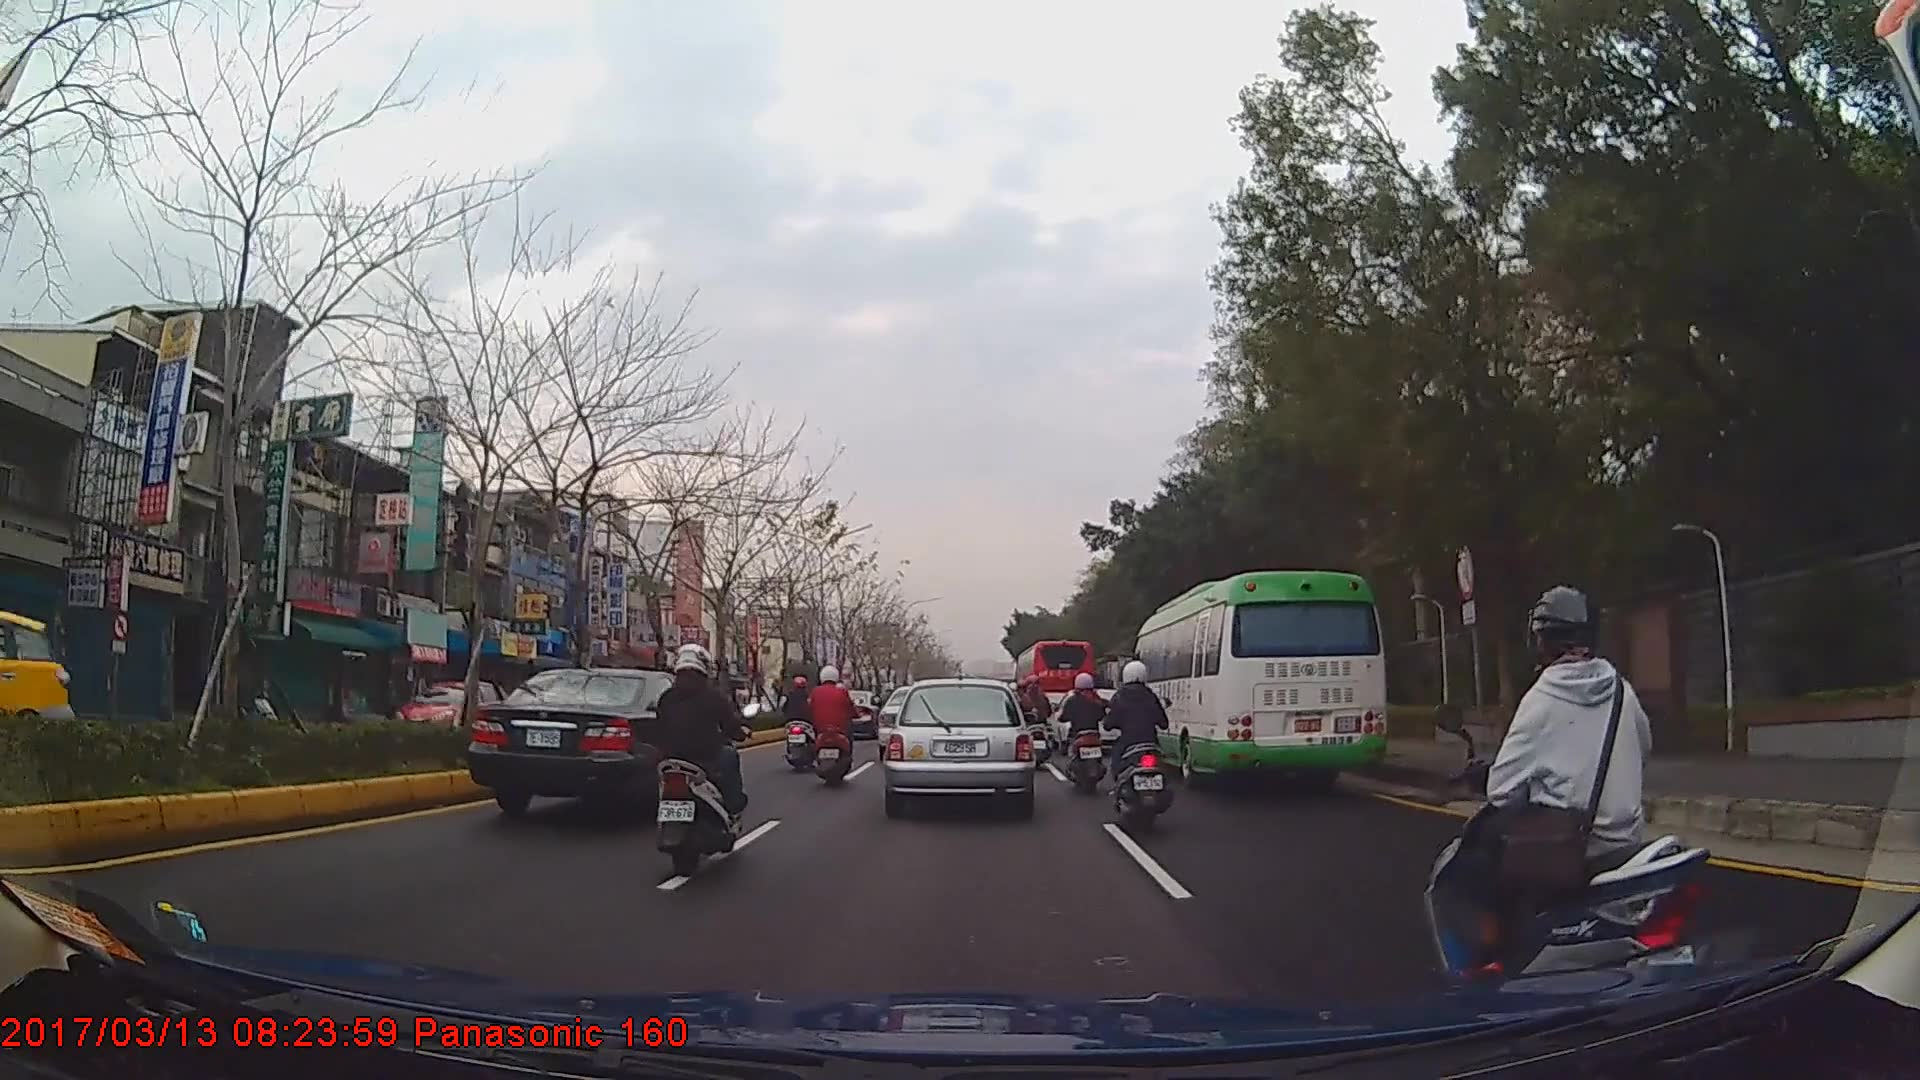rider: (1430, 580, 1712, 997), (650, 638, 752, 878), (1105, 658, 1182, 834), (1058, 669, 1110, 796), (807, 663, 856, 788), (782, 675, 821, 772), (1013, 670, 1049, 768)
vehicle: (1125, 569, 1389, 798), (465, 663, 735, 826), (884, 676, 1033, 816), (0, 585, 79, 770), (386, 677, 503, 753), (1013, 630, 1098, 726)
